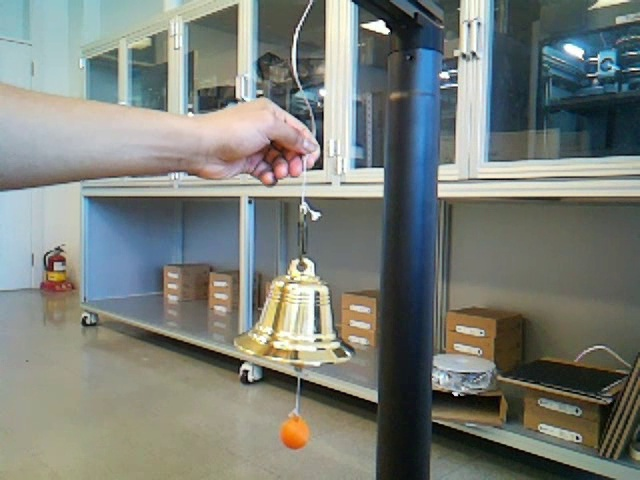bell: (233, 255, 354, 364)
pole: (378, 63, 440, 480)
